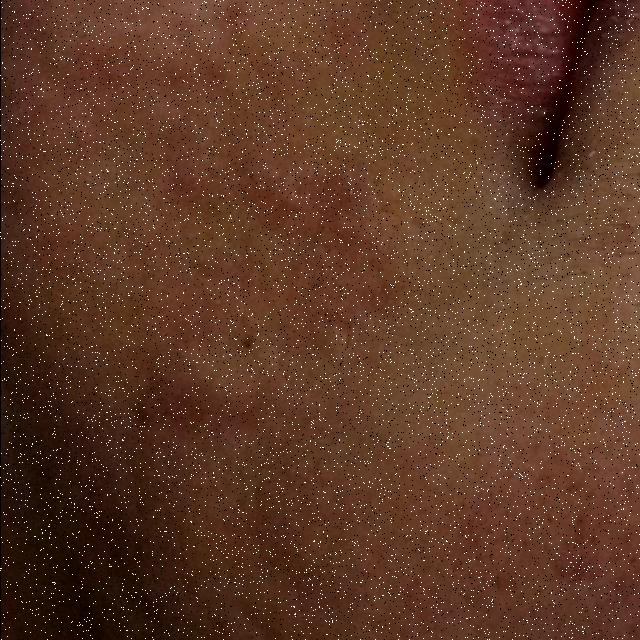nodules: (114, 327, 296, 458)
